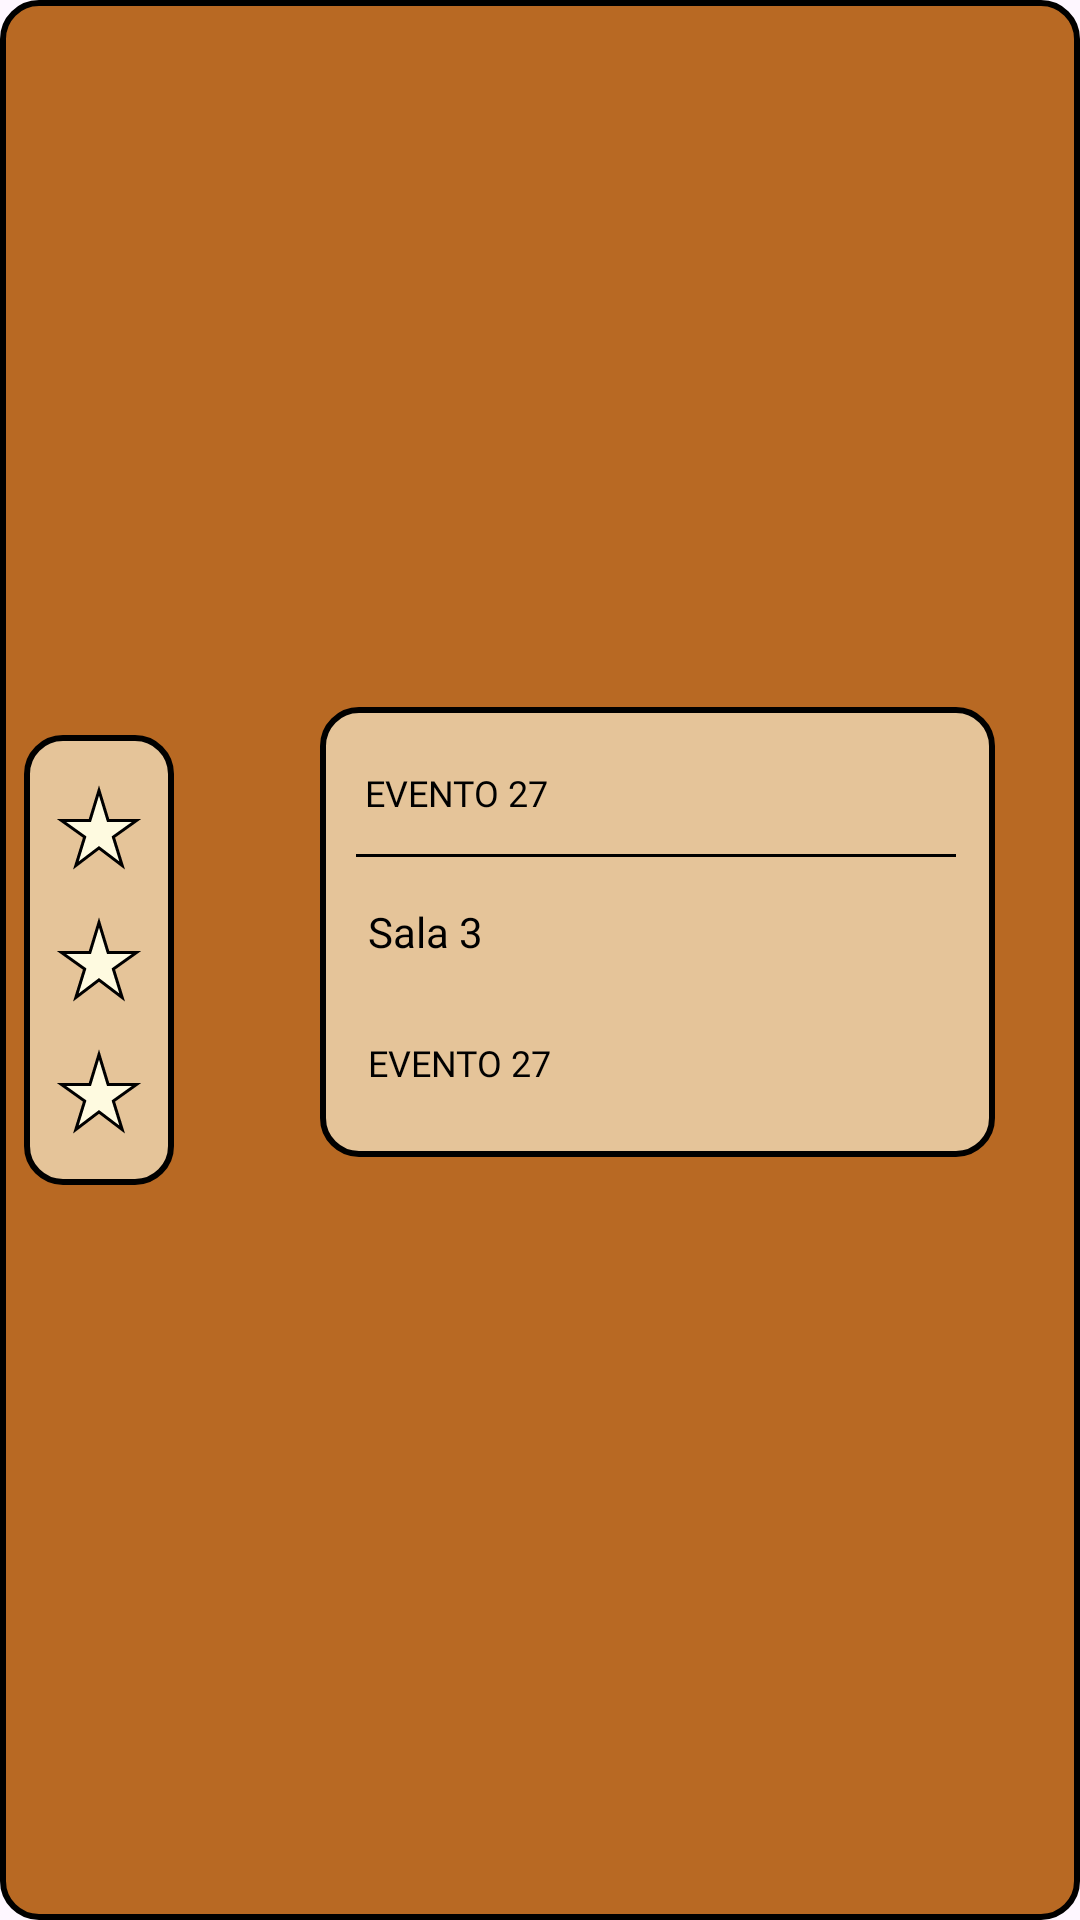

Named icons in this screenshot (1080 x 1920) and their centers, (x,y):
star: (99,828), (99,960), (99,1092)
